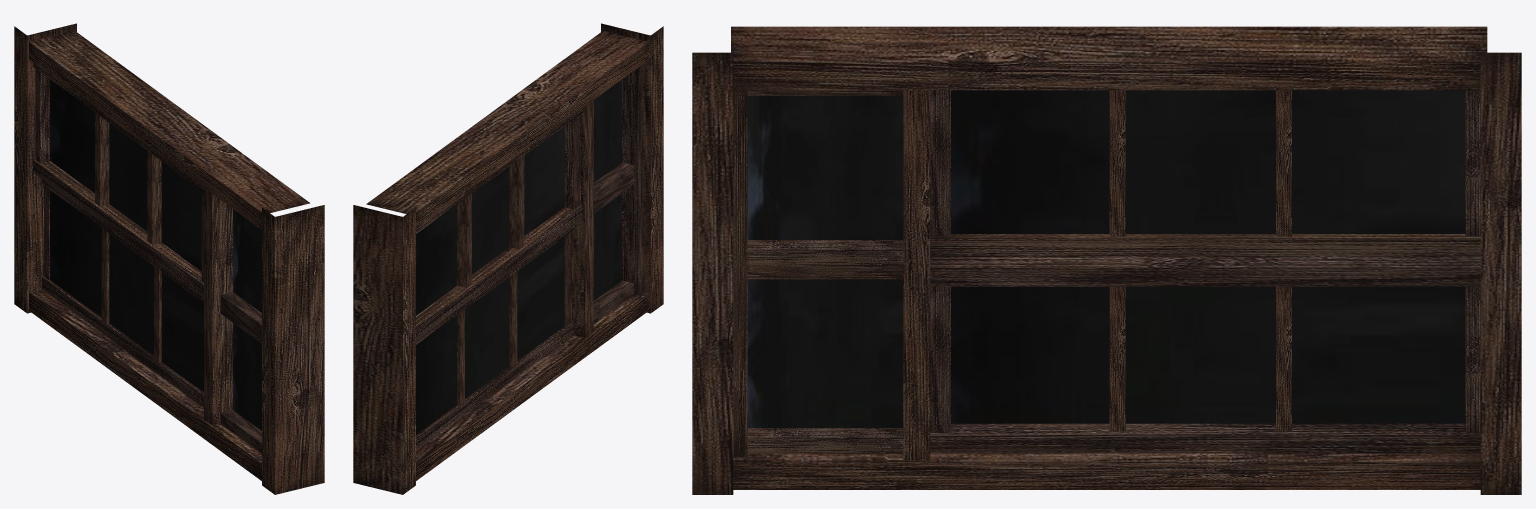
File: caen_window_brown_clean_3.glb
The picture shows the model from 3 angles, left to right: view 1: azimuth 30°, elevation 25°; view 2: azimuth 150°, elevation 25°; view 3: azimuth 270°, elevation 25°; orthographic projection. The views are drawn at different scales.
Size of the model in its own units: 7.98 by 42.72 by 72.59.
Materials: 1 (1 with a texture image).
